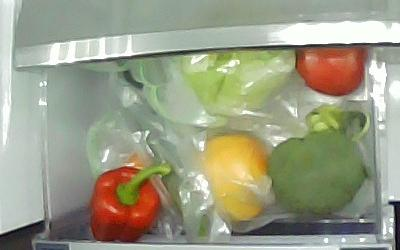apple: (297, 46, 366, 97)
broccoli: (265, 103, 368, 214)
grapefruit_vinyl: (199, 134, 268, 221)
lettuce_vinyl: (174, 48, 296, 115)
paprika: (90, 163, 172, 243)
